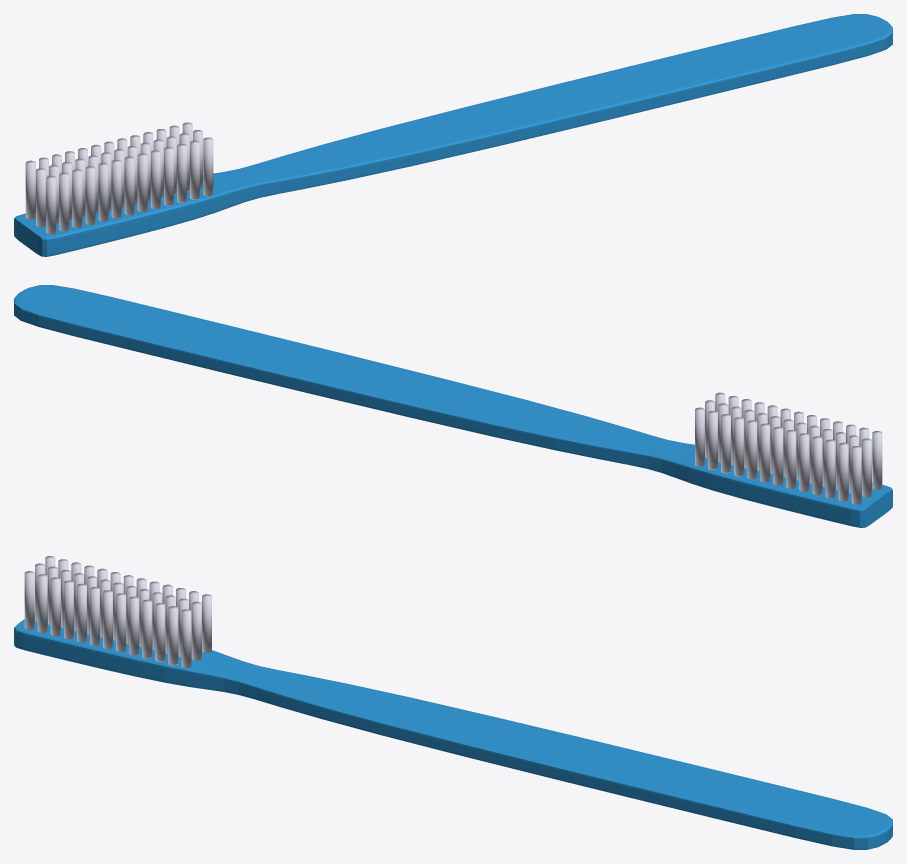
File: Cepillo4.fbx
3 renders of one model, top to bottom at view 1: azimuth 30°, elevation 25°; view 2: azimuth 150°, elevation 25°; view 3: azimuth 330°, elevation 25°, orthographic.
Visible parts, largest first — view 1: Cube.003, Cylinder.168, Cylinder.181, Cylinder.207; view 2: Cube.003, Cylinder.207, Cylinder.181, Cylinder.168; view 3: Cube.003, Cylinder.168, Cylinder.181, Cylinder.207.
Part boxes in pixels (x1,y1,x2,y2): Cube.003: (14,14,892,256); Cylinder.168: (46,137,213,234); Cylinder.181: (36,130,202,226); Cylinder.207: (25,122,192,219); Cube.003: (14,285,892,527); Cylinder.207: (695,407,861,504); Cylinder.181: (705,400,871,497); Cylinder.168: (715,392,882,489); Cube.003: (14,612,892,849); Cylinder.168: (24,571,191,667); Cylinder.181: (35,563,201,660); Cylinder.207: (45,556,211,652).
Bounding box in the file's own units: 2629 × 216 × 200.
